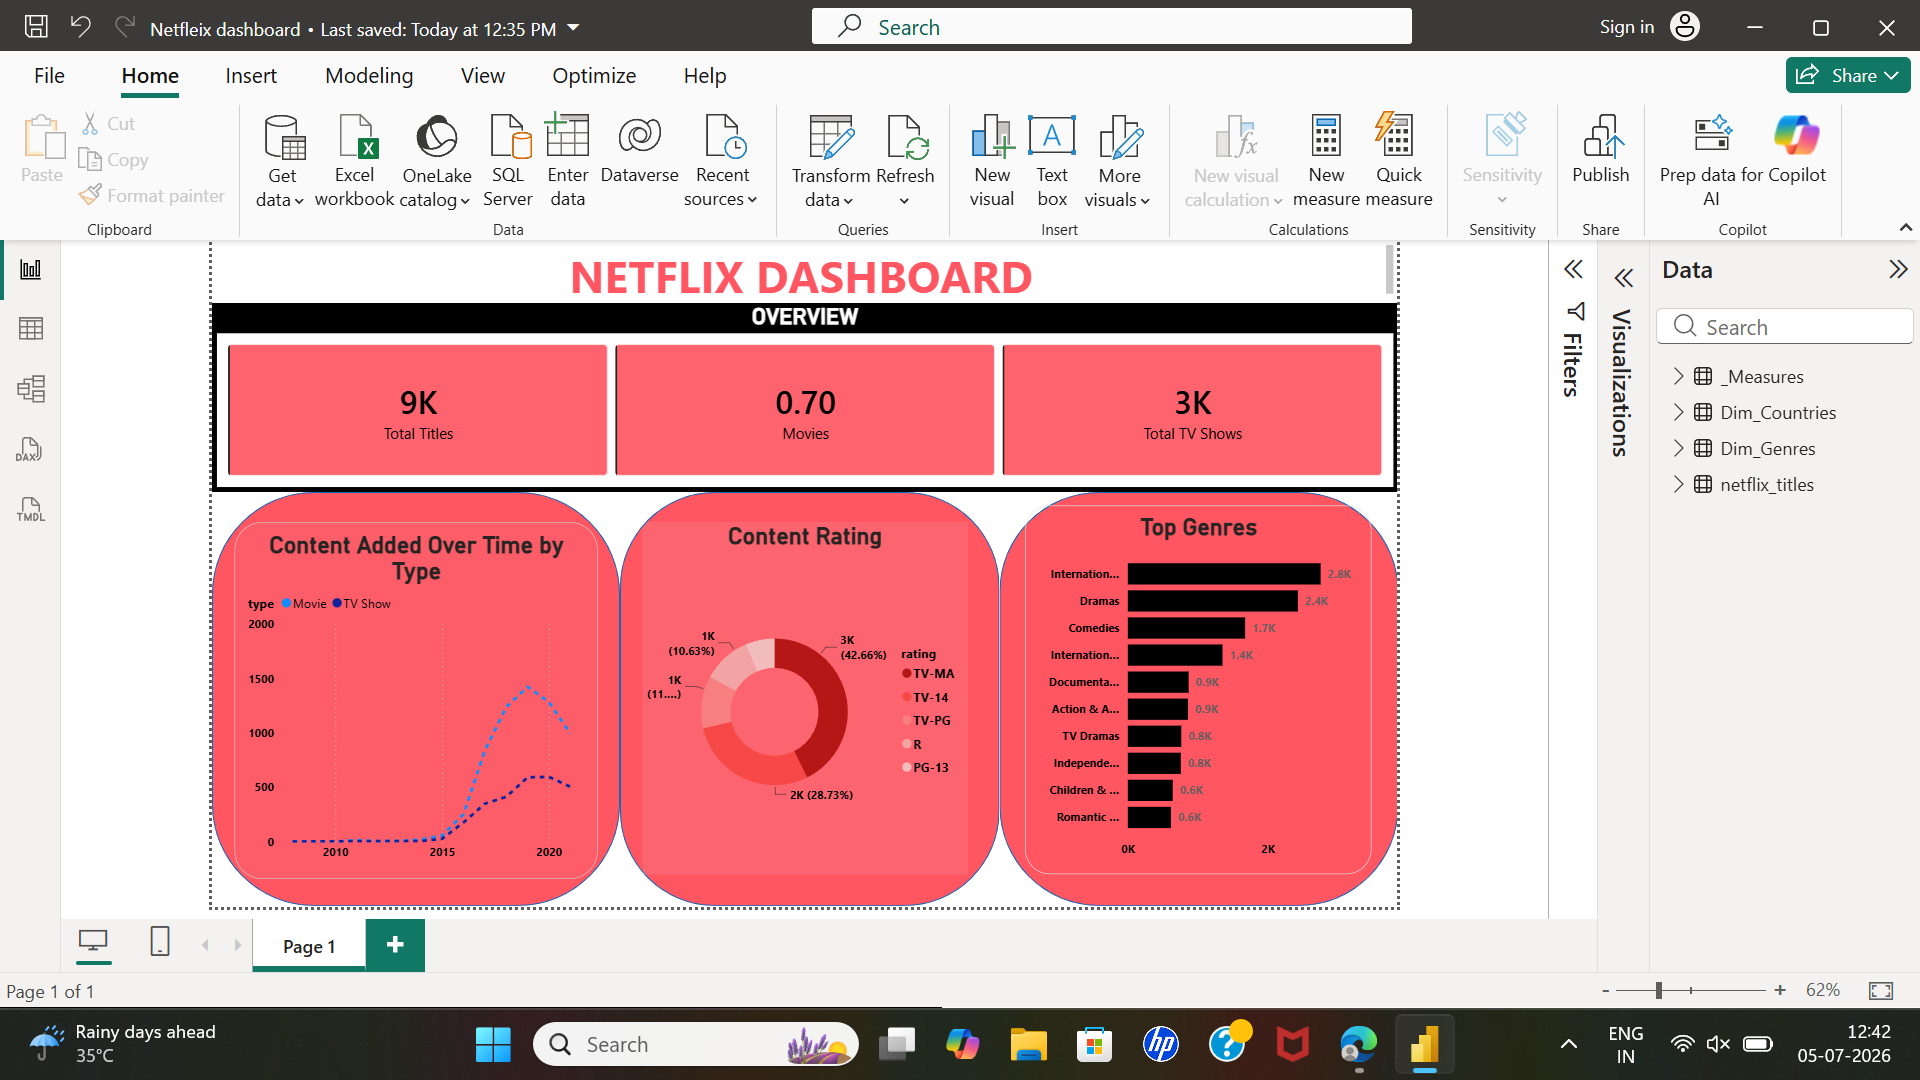

Layout of this report page (visuals, bound fields, positions):
{"tool":"powerbi","page":{"name":"Page 1","canvas":[1280,720],"ordinal":0},"visuals":[{"type":"cardVisual","title":"OVERVIEW","fields":{"Data":["_Measures.Total Titles","_Measures.%Movies","_Measures.Total TV Shows"]},"box":[0,68,1280.8,204],"z":0},{"type":"textbox","box":[0,0,1280,68],"z":1000},{"type":"shape","box":[0,272,440.4,446.9],"z":2000},{"type":"lineChart","title":"Content Added Over Time by Type","fields":{"Category":["netflix_titles.date_added.Variation.Date Hierarchy.Year"],"Y":["_Measures.Total Titles"],"Series":["netflix_titles.type"]},"box":[24.3,304.4,391.9,385.4],"z":3000},{"type":"shape","box":[850.1,272,430.7,446.9],"z":4000},{"type":"clusteredBarChart","title":"Top Genres","fields":{"Category":["Dim_Genres.Genre"],"Y":["_Measures.Total Titles"]},"box":[877.6,286.6,374,398.3],"z":5000},{"type":"shape","box":[440.4,272,409.7,446.9],"z":6000},{"type":"donutChart","title":"Content Rating","fields":{"Category":["netflix_titles.rating"],"Y":["_Measures.Total Titles"]},"box":[464.7,304.4,351.4,380.5],"z":7000}]}

Visuals, with their boxes on the page's 1280x720 design canvas (x1, y1, x2, y2). These are canvas units, not pixel positions in the 1920x1080 screenshot, which may show the page scaled, cropped or inside an application window:
"OVERVIEW" cardVisual: x1=0 y1=68 x2=1281 y2=272
textbox: x1=0 y1=0 x2=1280 y2=68
shape: x1=0 y1=272 x2=440 y2=719
"Content Added Over Time by Type" lineChart: x1=24 y1=304 x2=416 y2=690
shape: x1=850 y1=272 x2=1281 y2=719
"Top Genres" clusteredBarChart: x1=878 y1=287 x2=1252 y2=685
shape: x1=440 y1=272 x2=850 y2=719
"Content Rating" donutChart: x1=465 y1=304 x2=816 y2=685
